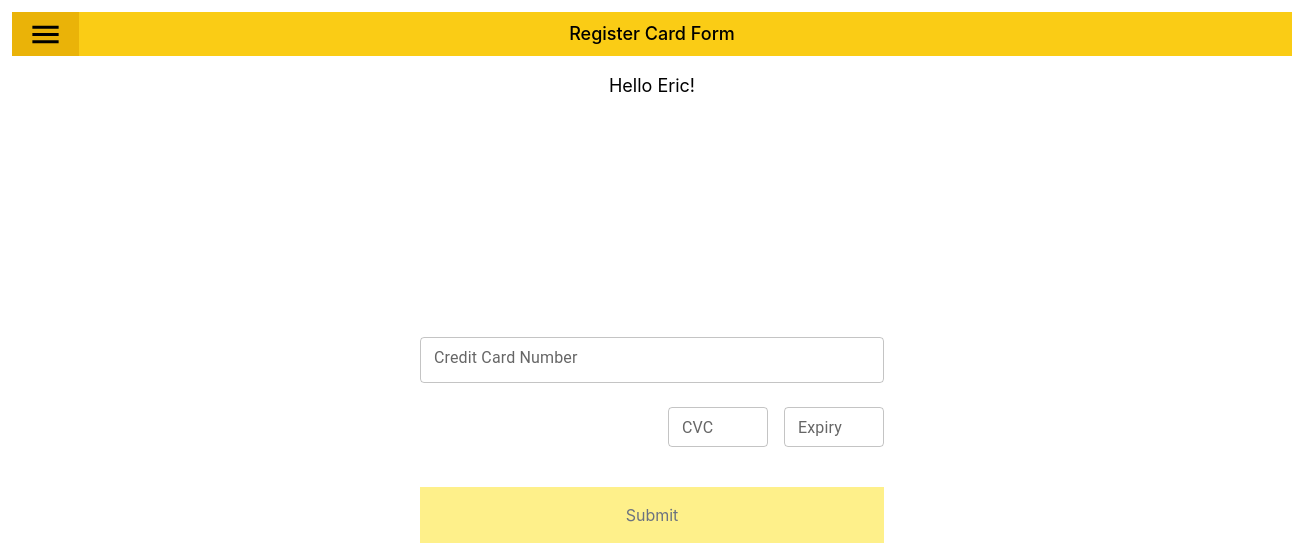
Test: form submit button is enabled with valid entries
The image size is (1292, 560).
Type "4242424242424242" into the field labelled "Credit Card Number" at [652, 360], box [420, 337, 884, 383]
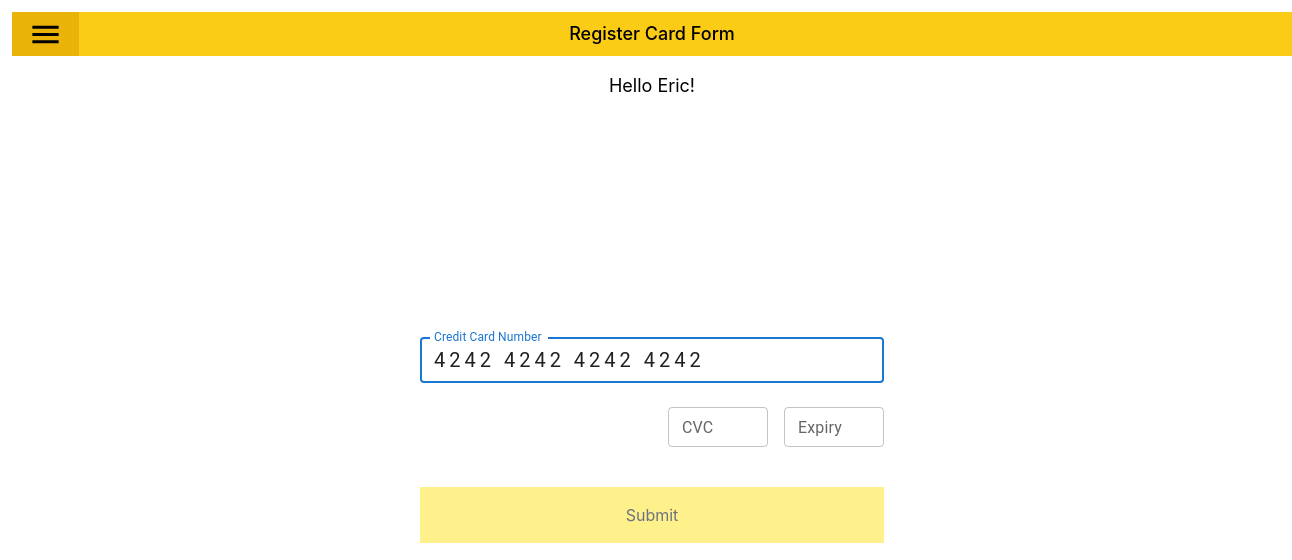
Type "123" into the field labelled "CVC" at [718, 427], box [668, 407, 768, 447]
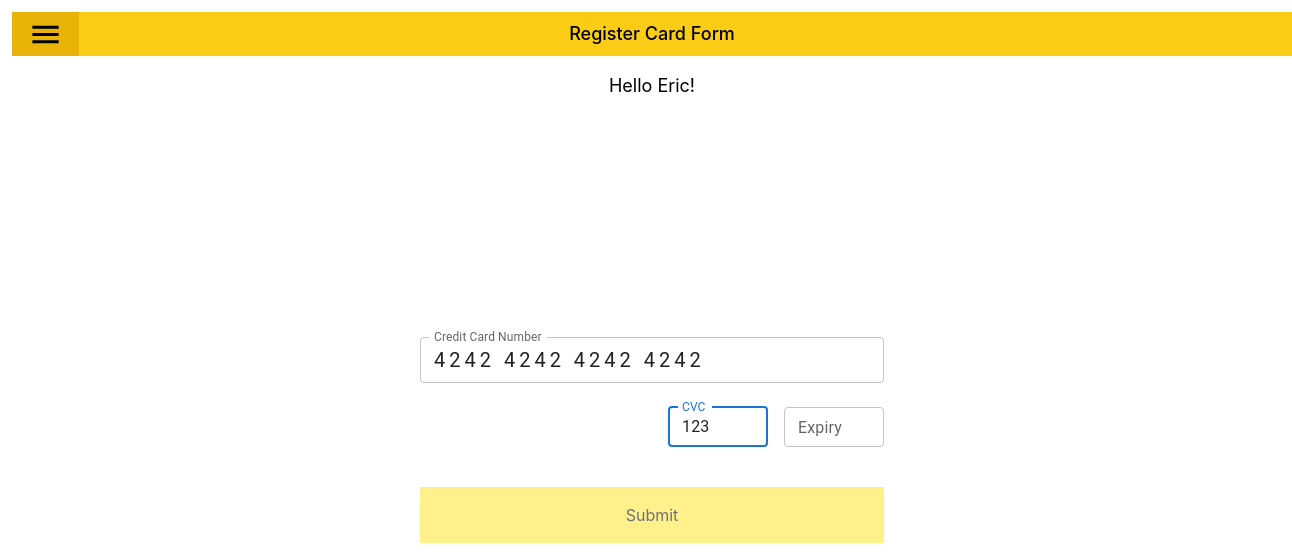
Type "1224" into the field labelled "Expiry" at [834, 427], box [784, 407, 884, 447]
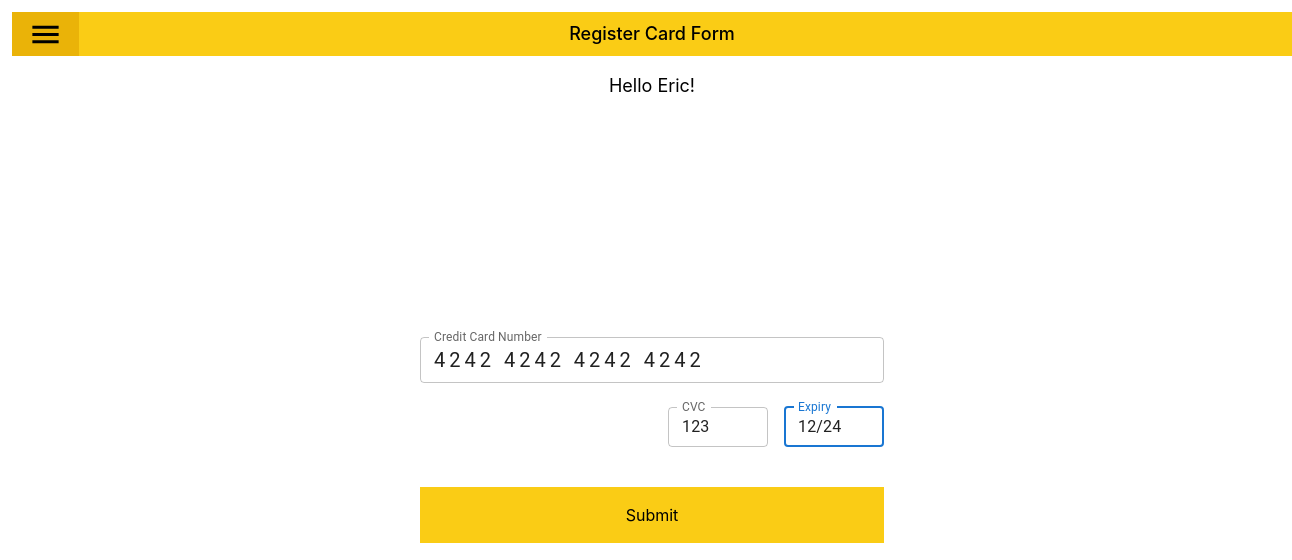
expect the button "Submit" is enabled: met, box [420, 487, 884, 543]
